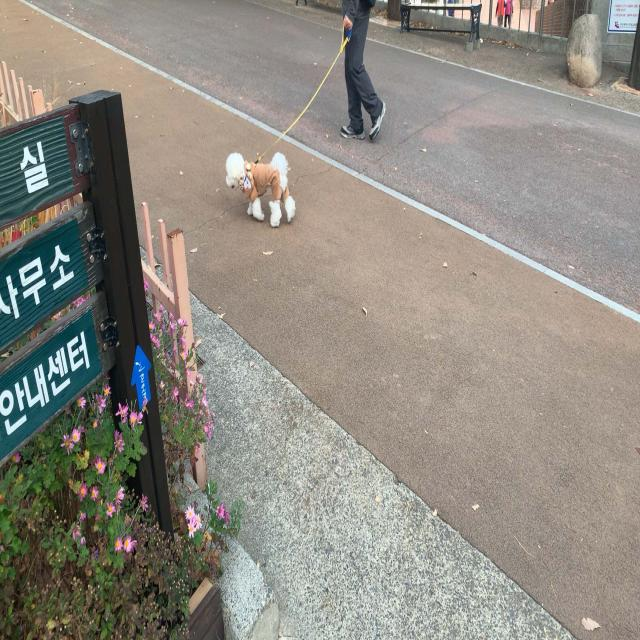Leashed_Dog: (225, 12, 365, 227)
